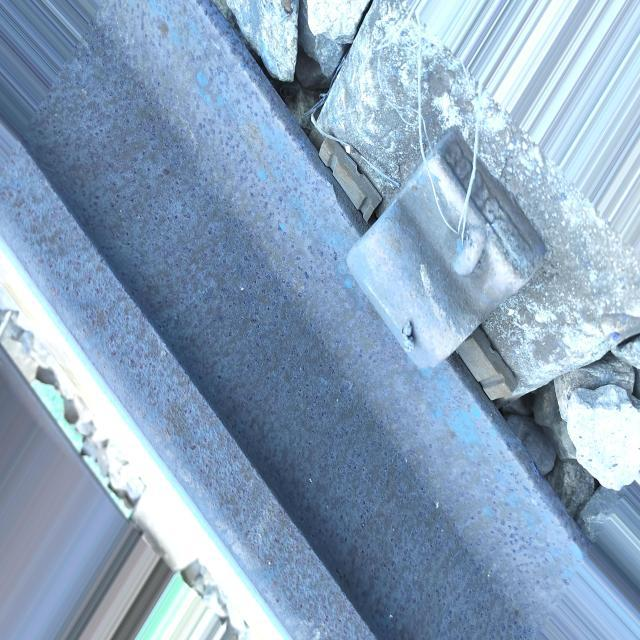Missing Fastener: (335, 107, 566, 402)
